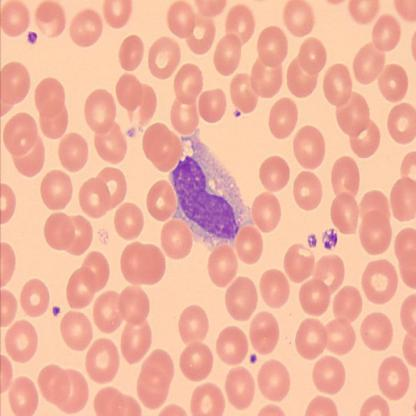Monocyte: (164, 125, 258, 255)
